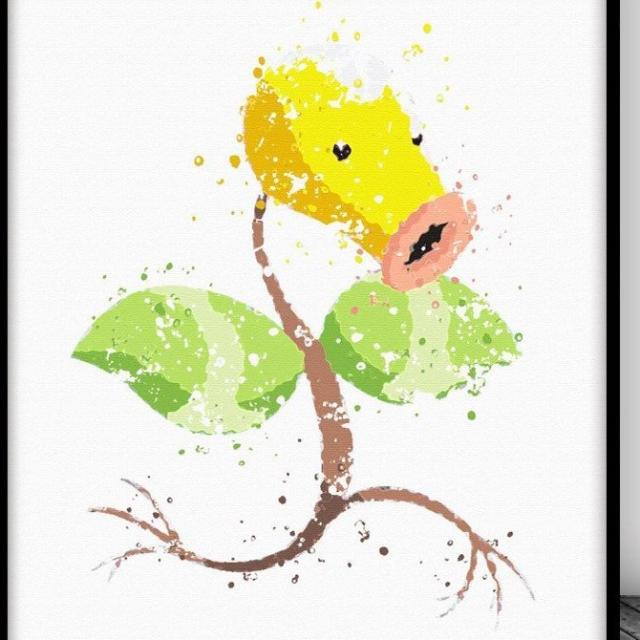Bellsprout: (147, 55, 526, 581)
